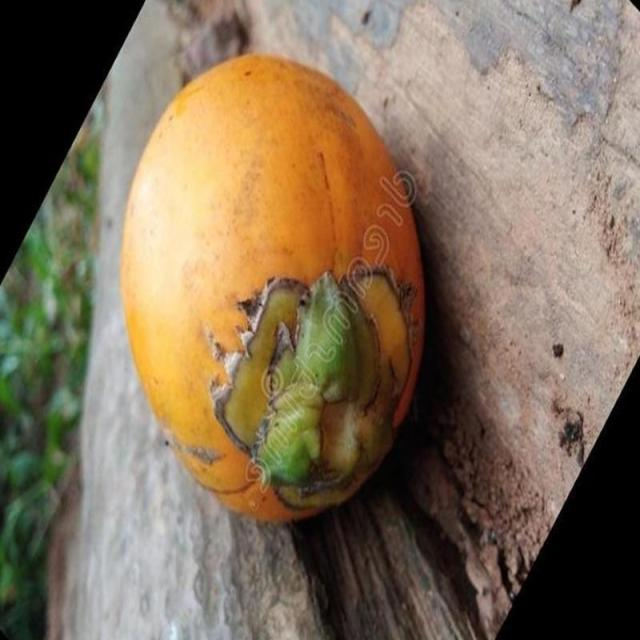good: (120, 52, 428, 529)
